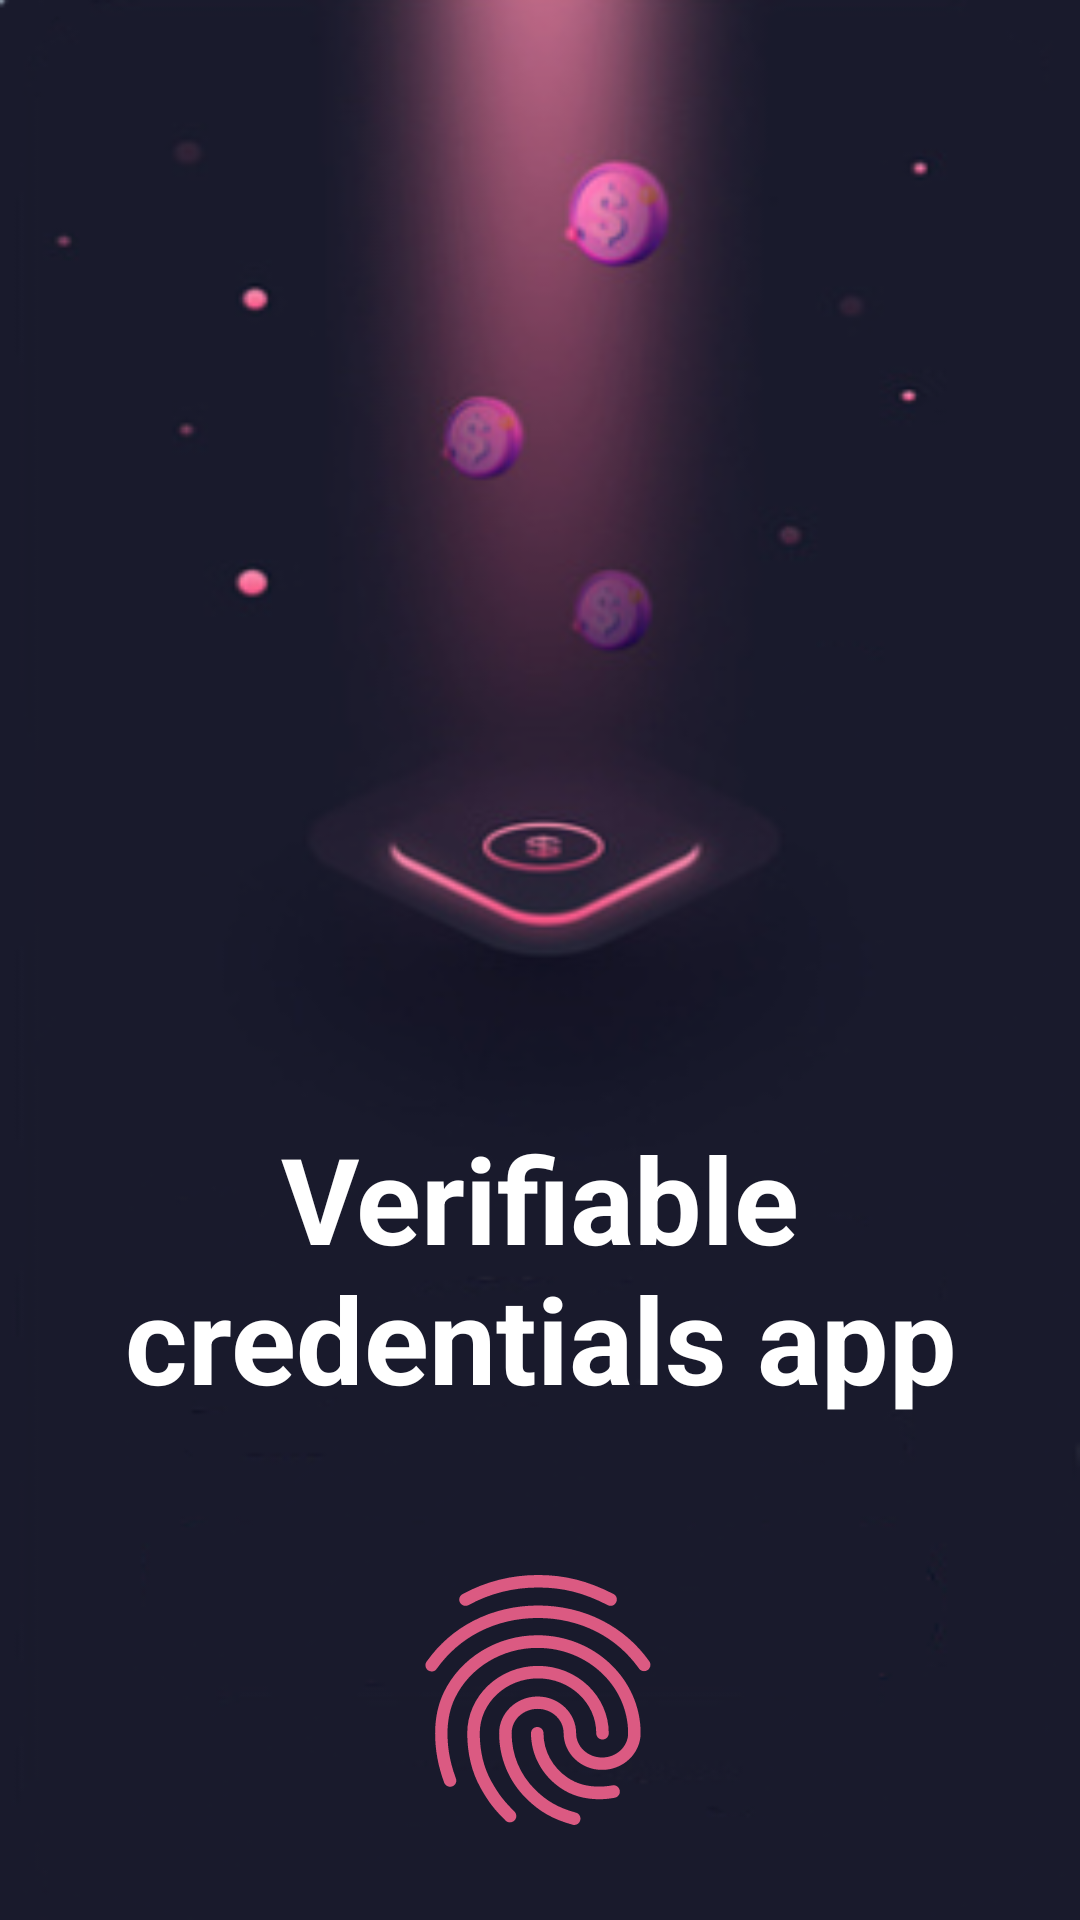

Screen size 1080 × 1920. Icon name, then its box in pixels as (x1, y1, x2, y2):
fingerprint: (425, 1575, 651, 1825)
